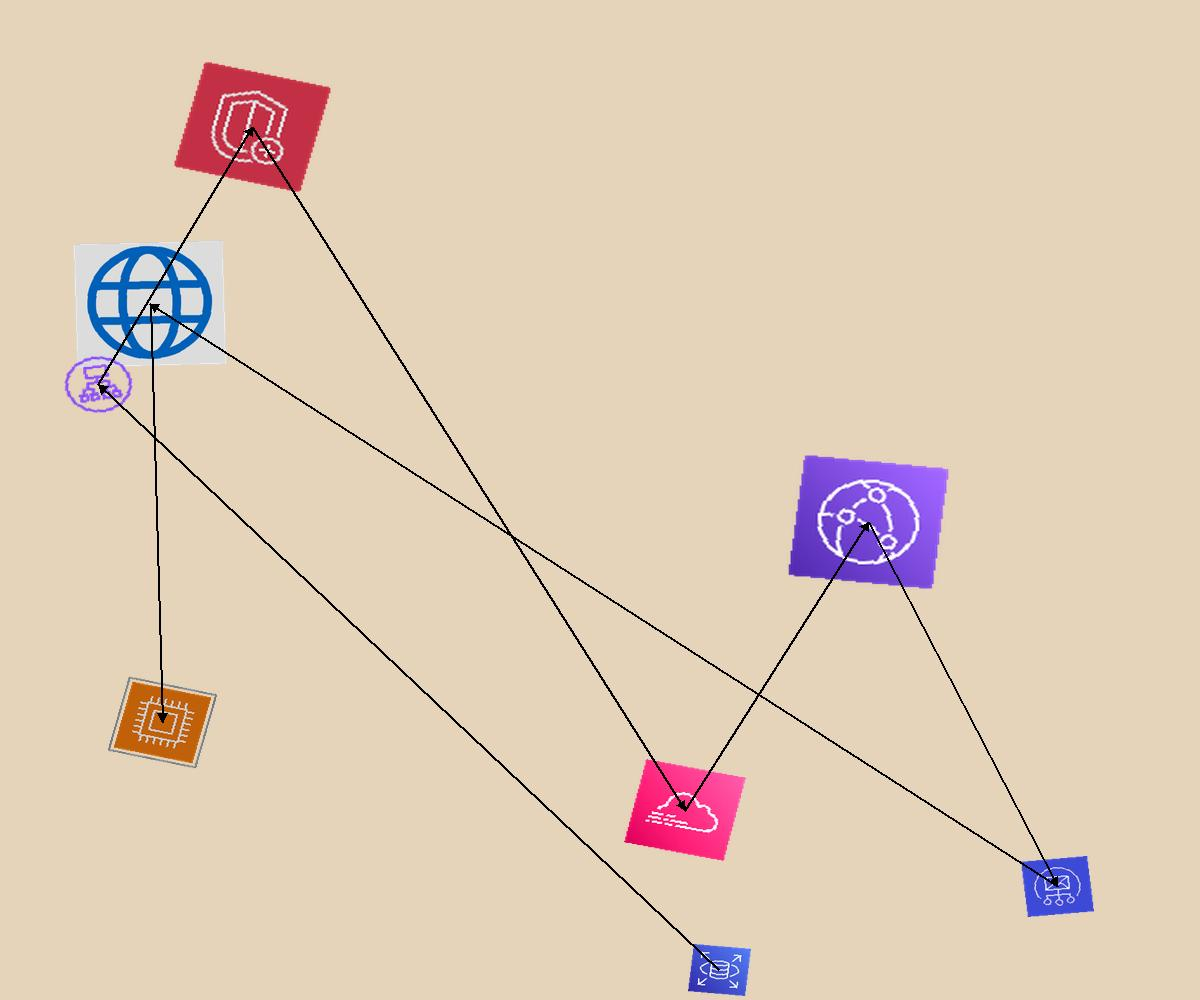AWS-Category_Compute: (107, 676, 218, 769)
AWS-CloudFront: (787, 454, 950, 590)
AWS-CloudTrail: (624, 759, 746, 861)
AWS-RDS: (688, 944, 751, 996)
AWS-Res_Elastic-Load-Balancing_Application-Load-Balancer: (56, 349, 141, 420)
AWS-Shield: (173, 61, 332, 193)
AWS-Simple-Email-Service: (1021, 856, 1094, 917)
Azure_http: (73, 240, 227, 368)
